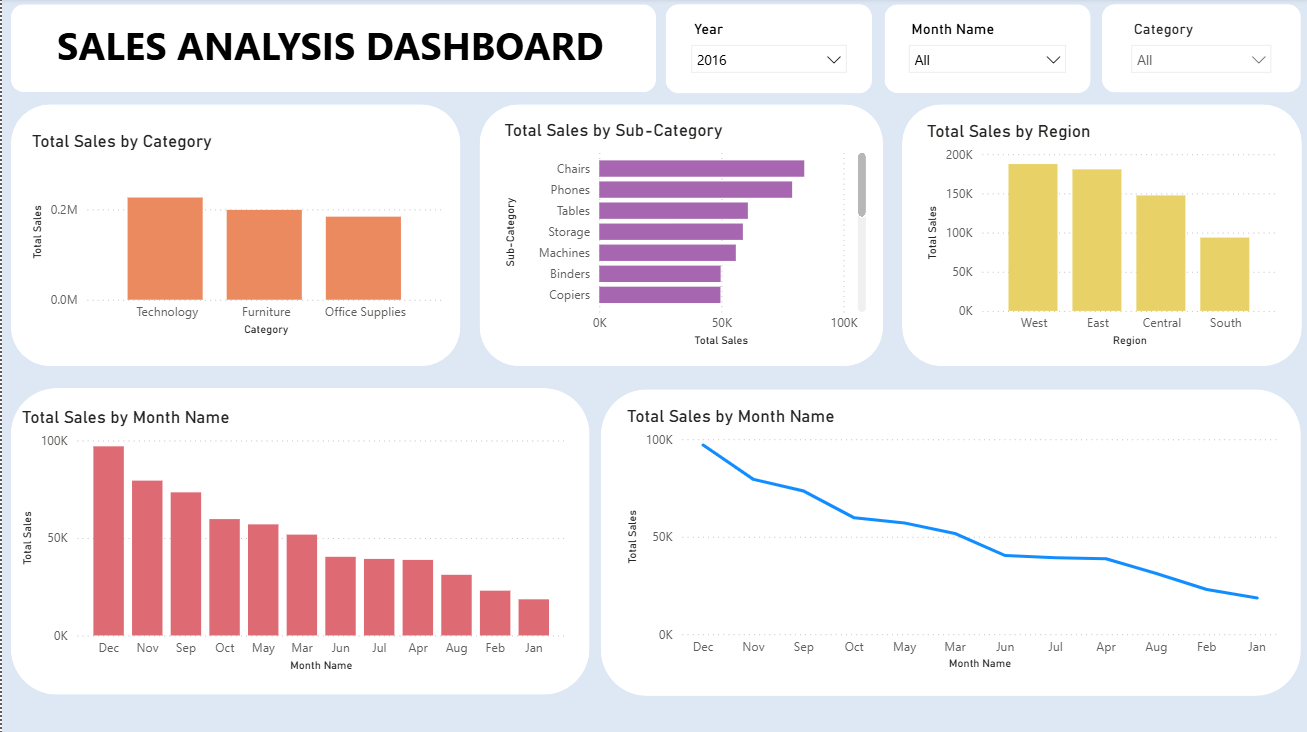

The dashboard page shown, as its layout file describes it:
{"tool":"powerbi","page":{"name":"Sales Analysis","canvas":[1280,720],"ordinal":1},"visuals":[{"type":"shape","box":[1075.9,5.6,194.4,86.1],"z":0},{"type":"shape","box":[863,5.6,201.9,87],"z":1000},{"type":"shape","box":[649.1,5.6,201.9,87],"z":2000},{"type":"shape","box":[8.8,381.2,566.2,300],"z":3000},{"type":"shape","box":[880,103.8,391.2,256.2],"z":4000},{"type":"shape","box":[8.8,103.8,440,256.2],"z":5000},{"type":"shape","box":[467.5,103.8,395,256.2],"z":6000},{"type":"shape","box":[8.3,5.6,631.5,86.1],"z":7000},{"type":"textbox","box":[25,15.7,593.5,61.1],"z":8000},{"type":"slicer","fields":{"Values":["Date Table.Year"]},"box":[663.9,16.7,172.2,63.9],"z":9000},{"type":"slicer","fields":{"Values":["Date Table.Month Name"]},"box":[876.9,16.7,174.1,65.7],"z":10000},{"type":"clusteredColumnChart","fields":{"Y":["Sample - Superstore.Total Sales"],"Category":["Sample - Superstore.Category"]},"box":[25,129.6,413.9,205.6],"z":11000},{"type":"clusteredBarChart","fields":{"Category":["Sample - Superstore.Sub-Category"],"Y":["Sample - Superstore.Total Sales"]},"box":[486.2,118.8,363.8,227.5],"z":12000},{"type":"clusteredColumnChart","fields":{"Y":["Sample - Superstore.Total Sales"],"Category":["Date Table.Month Name"]},"box":[15,400,541.2,263.8],"z":13000},{"type":"clusteredColumnChart","fields":{"Y":["Sample - Superstore.Total Sales"],"Category":["Sample - Superstore.Region"]},"box":[900,120,352.5,226.2],"z":14000},{"type":"slicer","fields":{"Values":["Sample - Superstore.Category"]},"box":[1094.4,16.7,157.4,67.6],"z":15000},{"type":"shape","box":[586.2,382.5,685,300],"z":16000},{"type":"lineChart","fields":{"Category":["Date Table.Month Name"],"Y":["Sample - Superstore.Total Sales"]},"box":[606.2,398.8,646.2,263.8],"z":17000}]}

Visuals, with their boxes in screenshot pixels (x1, y1, x2, y2), scaled from the page's 1280x720 canvas onto the 1307x732 screenshot:
shape: [1099, 6, 1297, 93]
shape: [881, 6, 1087, 94]
shape: [663, 6, 869, 94]
shape: [9, 388, 587, 693]
shape: [899, 106, 1298, 366]
shape: [9, 106, 458, 366]
shape: [477, 106, 881, 366]
shape: [8, 6, 653, 93]
textbox: [26, 16, 632, 78]
slicer - Date Table.Year: [678, 17, 854, 82]
slicer - Date Table.Month Name: [895, 17, 1073, 84]
clusteredColumnChart - Sample - Superstore.Total Sales x Sample - Superstore.Category: [26, 132, 448, 341]
clusteredBarChart - Sample - Superstore.Sub-Category x Sample - Superstore.Total Sales: [496, 121, 868, 352]
clusteredColumnChart - Sample - Superstore.Total Sales x Date Table.Month Name: [15, 407, 568, 675]
clusteredColumnChart - Sample - Superstore.Total Sales x Sample - Superstore.Region: [919, 122, 1279, 352]
slicer - Sample - Superstore.Category: [1117, 17, 1278, 86]
shape: [599, 389, 1298, 694]
lineChart - Date Table.Month Name x Sample - Superstore.Total Sales: [619, 405, 1279, 674]
